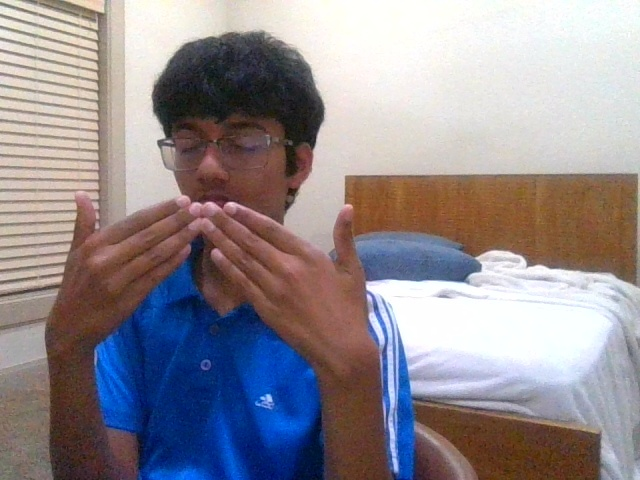thanks: (55, 188, 371, 353)
